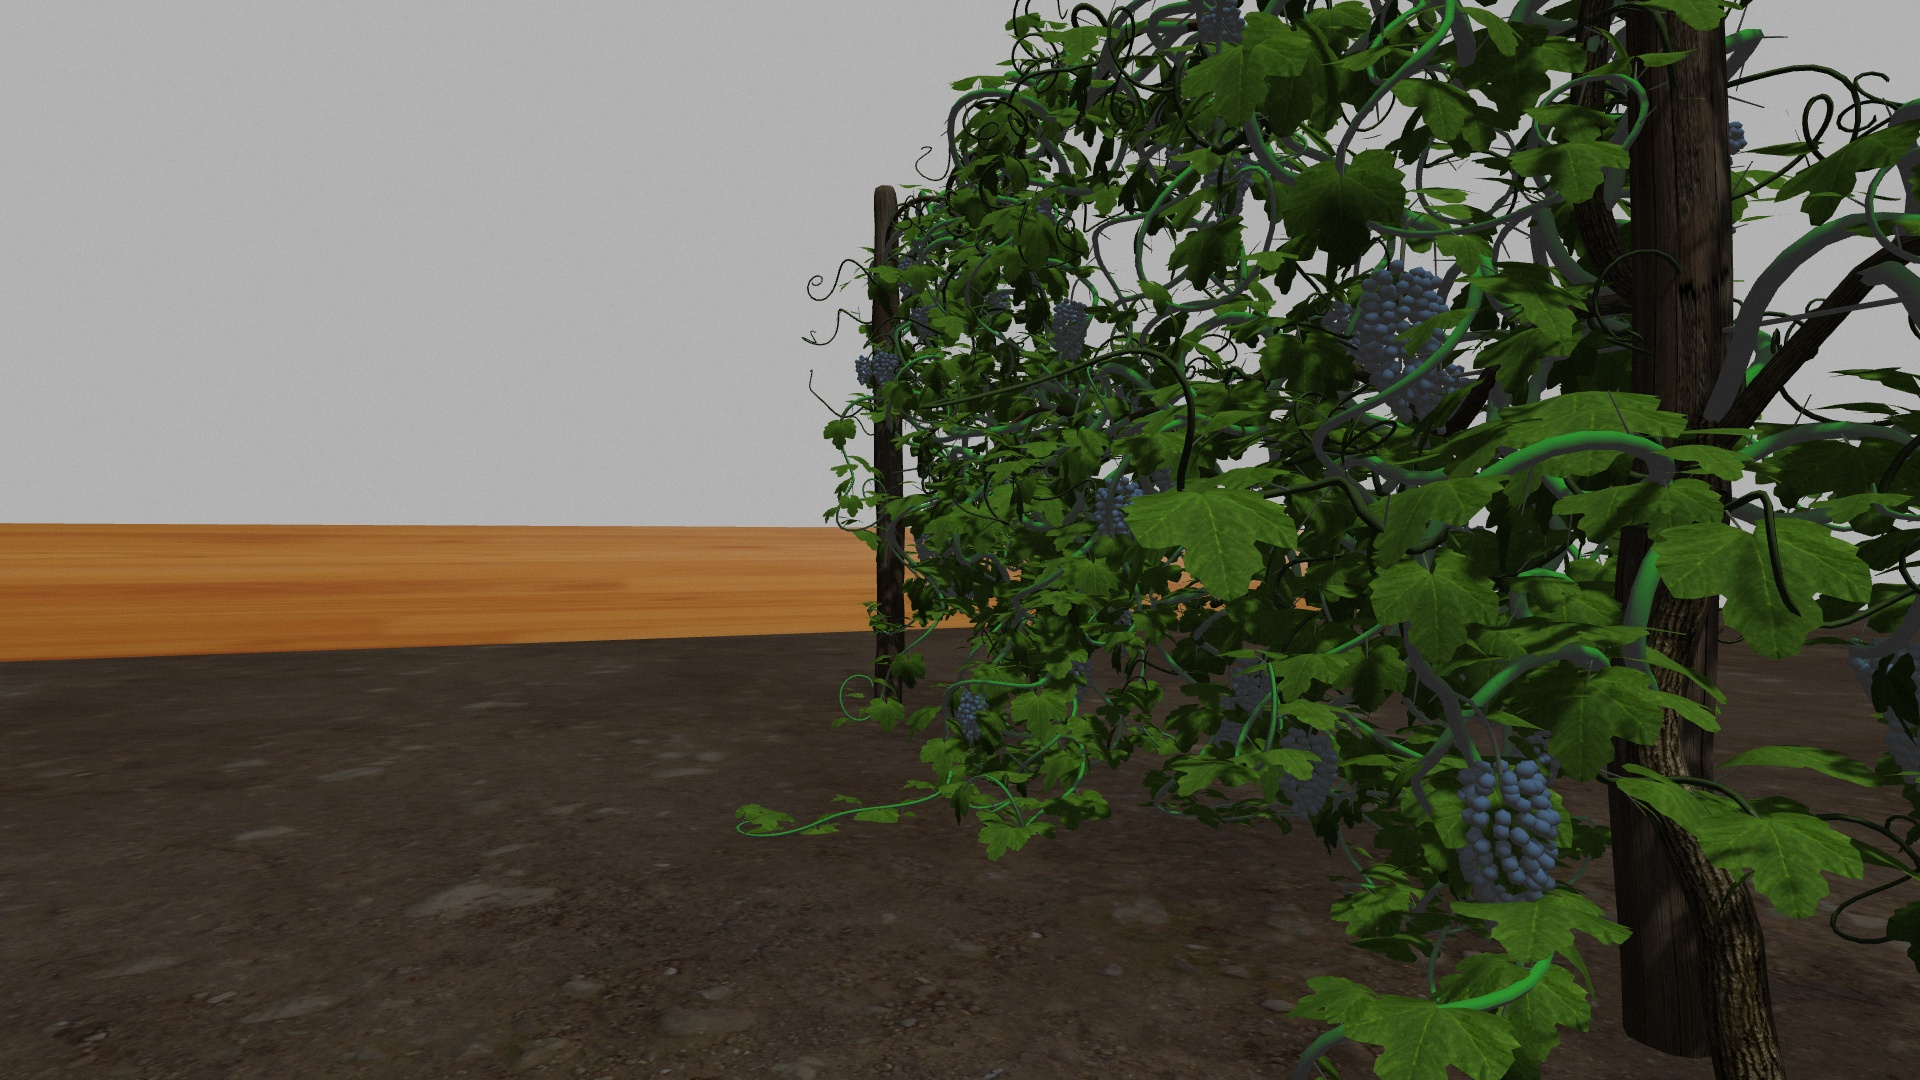grape: (1458, 758, 1567, 913), (1357, 261, 1453, 418), (1276, 727, 1338, 823), (1092, 473, 1142, 546), (1232, 655, 1273, 715), (1050, 299, 1091, 356), (956, 691, 992, 745), (1199, 8, 1245, 46), (872, 349, 899, 386), (853, 353, 874, 386)
